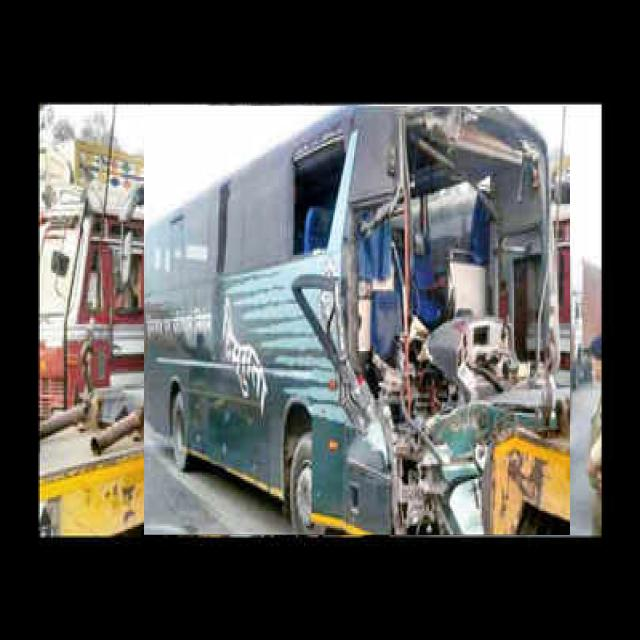accident: (144, 106, 570, 535)
